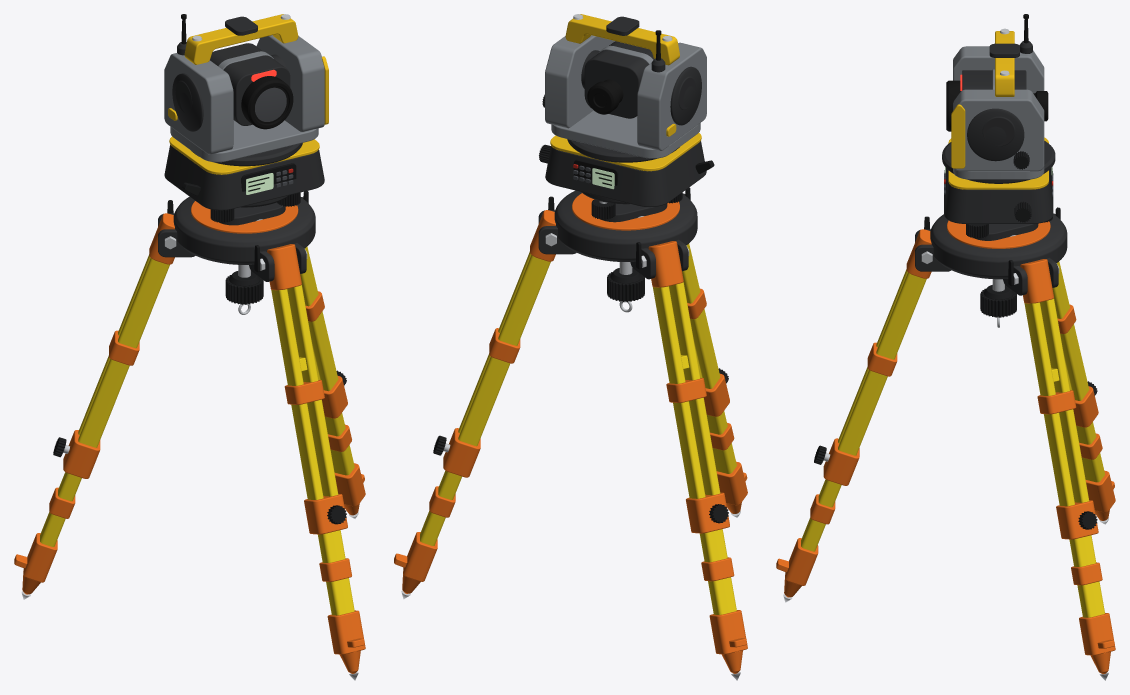
Rendered from TS_Robotic.glb.
The picture shows the model from 3 angles, left to right: view 1: azimuth 30°, elevation 25°; view 2: azimuth 150°, elevation 25°; view 3: azimuth 270°, elevation 25°; orthographic projection. The views are drawn at different scales.
Visible parts, largest first — view 1: Body_Lower.001, Tripod_Head.001, Standard_L.001, Leg_C_UpperL, Standard_R.001, Leg_A_UpperR, Leg_A_UpperL, Alidade_Base.001, Telescope_Body.001, Handle.001, Telescope_Hood.001, Leg_B_UpperR (+24 smaller); view 2: Body_Lower.001, Tripod_Head.001, Standard_L.001, Leg_B_UpperL, Standard_R.001, Leg_C_UpperR, Leg_C_UpperL, Alidade_Base.001, Telescope_Body.001, Handle.001, Leg_A_UpperR, Leg_C_Lower.001 (+22 smaller); view 3: Tripod_Head.001, Standard_R.001, Body_Lower.001, Leg_A_UpperL, Leg_B_UpperR, Leg_B_UpperL, Servo_Cover_R, Standard_L.001, Leg_C_UpperR, Leg_B_Lower.001, Tripod_Head_Top.001, Leg_B_Shoe.001 (+22 smaller).
Boxes of the visible parts, x1=… form: Body_Lower.001: x1=164, y1=145, x2=324, y2=210; Tripod_Head.001: x1=173, y1=196, x2=315, y2=264; Standard_L.001: x1=164, y1=53, x2=233, y2=154; Leg_C_UpperL: x1=78, y1=258, x2=169, y2=447; Standard_R.001: x1=256, y1=35, x2=324, y2=131; Leg_A_UpperR: x1=271, y1=289, x2=323, y2=499; Leg_A_UpperL: x1=287, y1=285, x2=338, y2=496; Alidade_Base.001: x1=170, y1=120, x2=318, y2=162; Telescope_Body.001: x1=210, y1=43, x2=290, y2=125; Handle.001: x1=184, y1=14, x2=298, y2=64; Telescope_Hood.001: x1=241, y1=76, x2=293, y2=129; Leg_B_UpperR: x1=300, y1=247, x2=338, y2=391; Body_Lower.001: x1=545, y1=141, x2=706, y2=207; Tripod_Head.001: x1=554, y1=190, x2=697, y2=261; Standard_L.001: x1=637, y1=42, x2=706, y2=150; Leg_B_UpperL: x1=458, y1=255, x2=550, y2=446; Standard_R.001: x1=545, y1=35, x2=614, y2=128; Leg_C_UpperR: x1=653, y1=286, x2=705, y2=498; Leg_C_UpperL: x1=669, y1=282, x2=720, y2=495; Alidade_Base.001: x1=551, y1=110, x2=700, y2=158; Telescope_Body.001: x1=584, y1=41, x2=653, y2=118; Handle.001: x1=565, y1=14, x2=679, y2=65; Leg_A_UpperR: x1=682, y1=243, x2=720, y2=388; Leg_C_Lower.001: x1=699, y1=529, x2=736, y2=614; Tripod_Head.001: x1=930, y1=214, x2=1067, y2=279; Standard_R.001: x1=953, y1=89, x2=1044, y2=171; Body_Lower.001: x1=944, y1=170, x2=1053, y2=223; Leg_A_UpperL: x1=838, y1=272, x2=926, y2=455; Leg_B_UpperR: x1=1024, y1=302, x2=1074, y2=506; Leg_B_UpperL: x1=1040, y1=298, x2=1089, y2=502; Servo_Cover_R: x1=967, y1=108, x2=1024, y2=161; Standard_L.001: x1=953, y1=46, x2=1044, y2=93; Leg_C_UpperR: x1=1052, y1=261, x2=1089, y2=400; Leg_B_Lower.001: x1=1069, y1=535, x2=1104, y2=617; Tripod_Head_Top.001: x1=947, y1=220, x2=1050, y2=248; Leg_B_Shoe.001: x1=1079, y1=613, x2=1115, y2=655.
Bounding box in the file's own units: 125 × 200 × 109.
